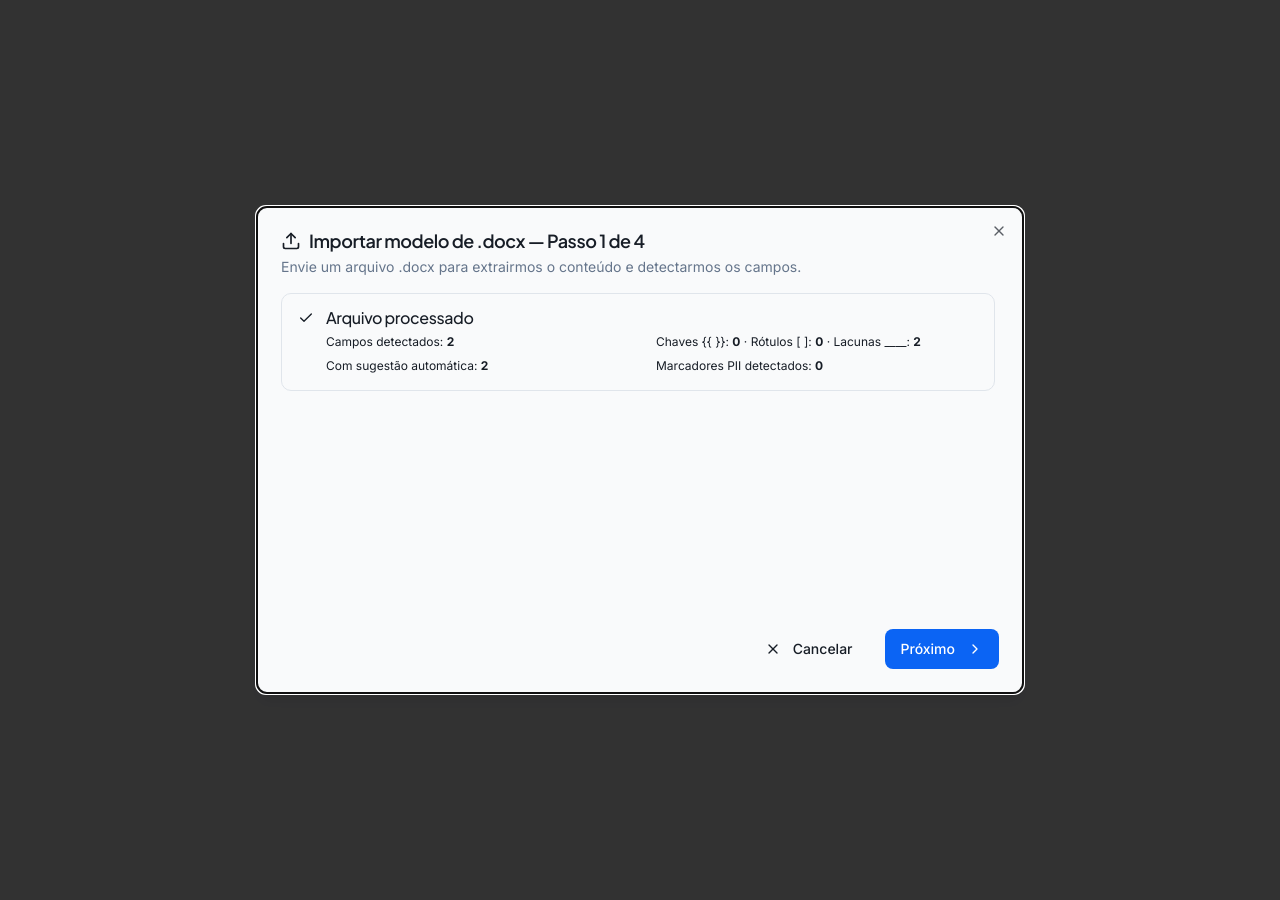
ImportDocxDialog — tela de mapeamento › indexação por paridade: duas lacunas de CPF em contexto de testemunha viram testemunha1_cpf e testemunha2_cpf
Earlier steps of the test are not shown.
Check: the heading "Arquivo processado" is shown, box [326,307,474,328]
Click the button "Próximo" at (942, 649), box [884,629,999,669]
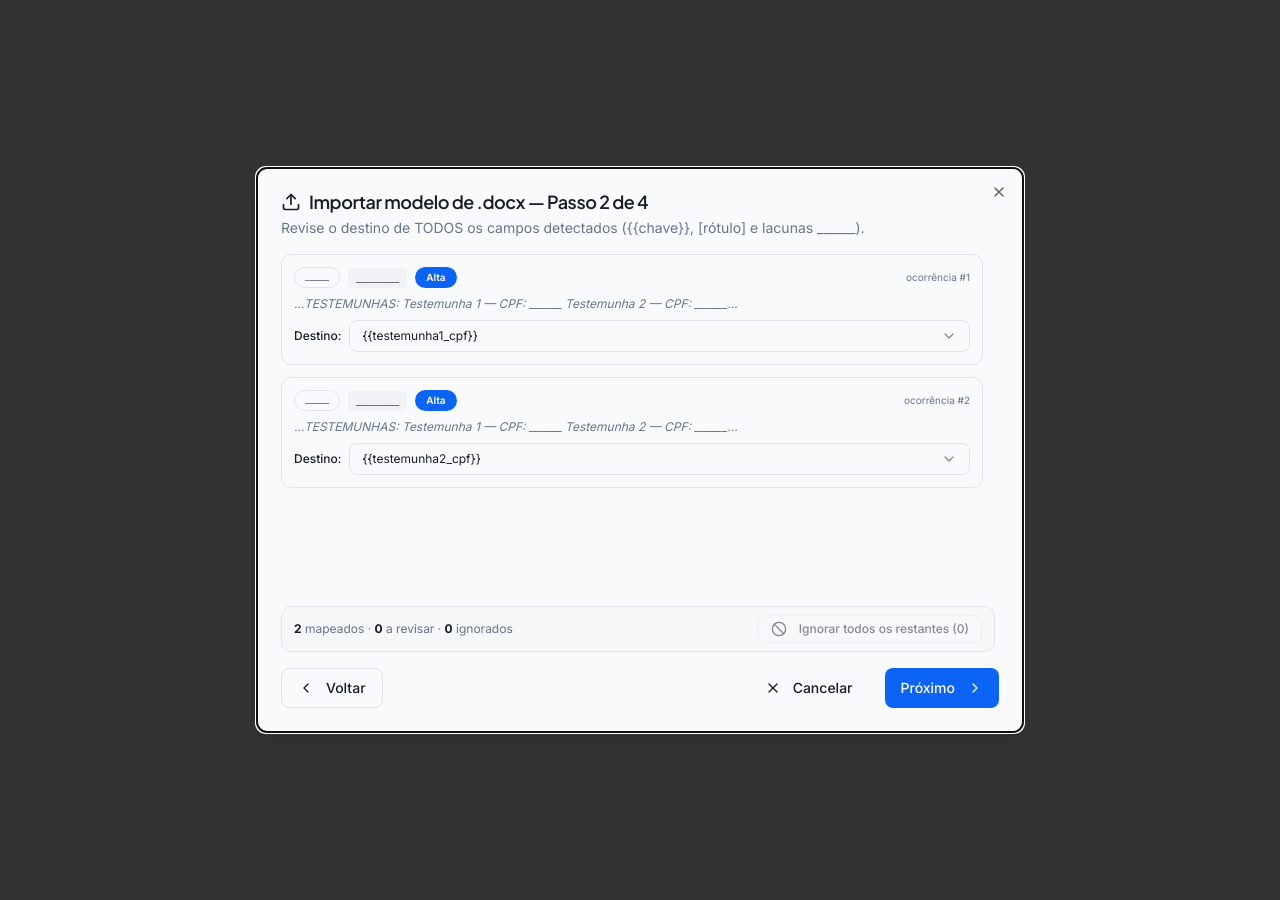
Check: the text "{{testemunha1_cpf}}" is shown, box [362,328,478,344]
Check: the text "{{testemunha2_cpf}}" is shown, box [362,451,481,467]
Check: the text "2 mapeados · 0 a revisar · 0 ignorados" is shown, box [294,621,513,637]
